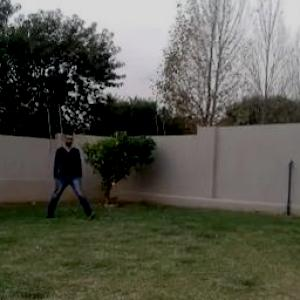follow: (58, 124, 81, 214)
